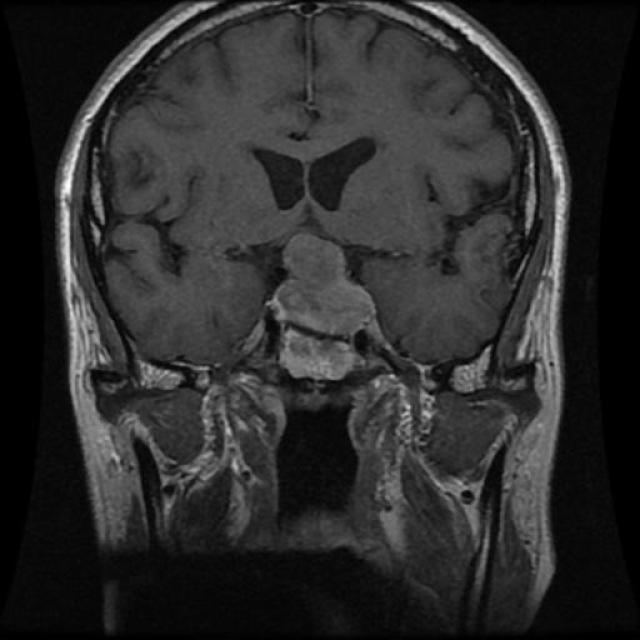pituitary: (260, 220, 385, 386)
